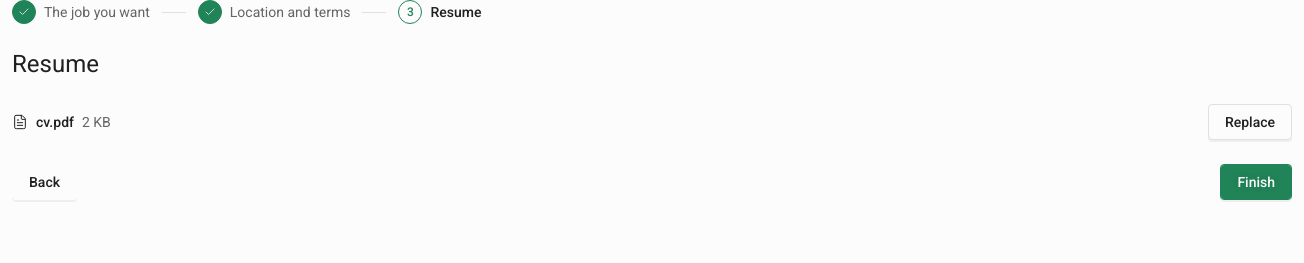
NewProfileResumeStep › a failed publish shows the message and Finish works again
The width and height of the screenshot is (1304, 263).
Click the button "Finish". click: (1256, 182)
box: [1220, 164, 1292, 200]
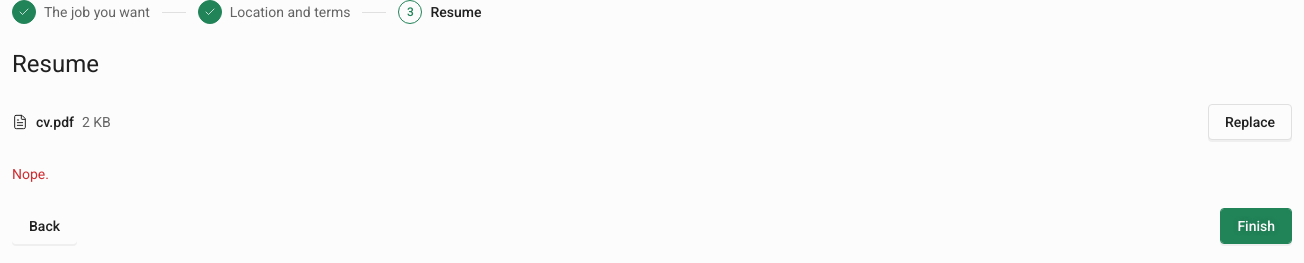
Expected: the button "Finish" is enabled, [1220, 208, 1292, 244]
Expected: the message reads "Nope.", [12, 166, 49, 182]
